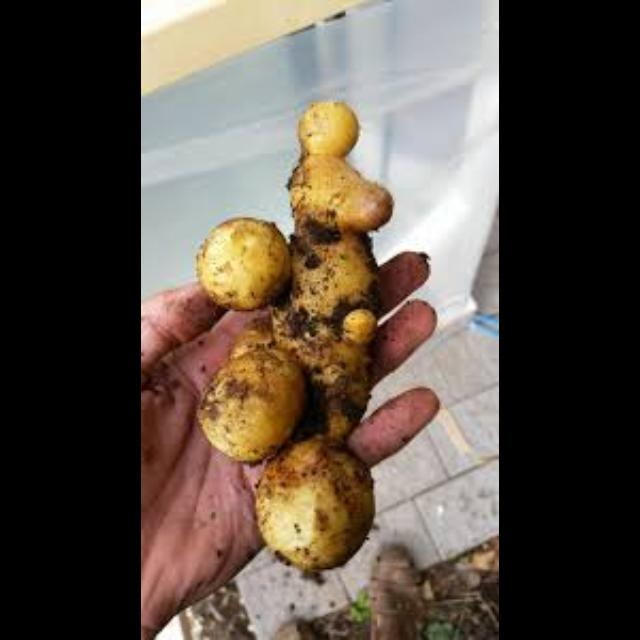Damaged potato: (212, 89, 412, 566), (176, 580, 264, 640)
